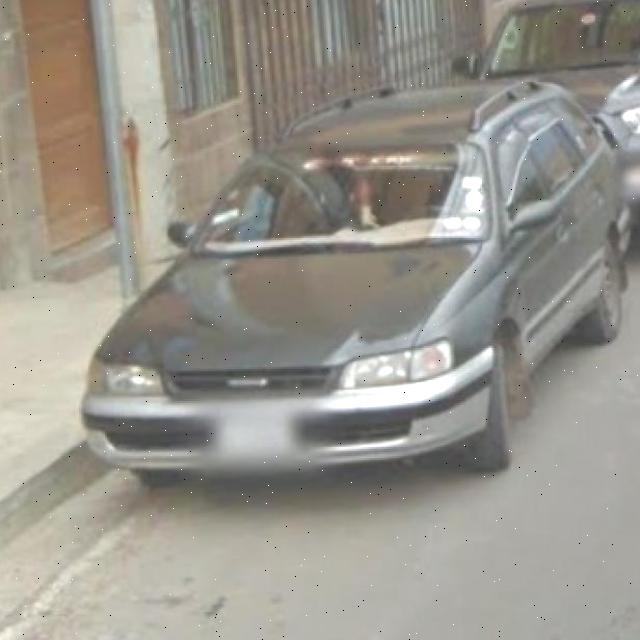car: (93, 98, 609, 486)
